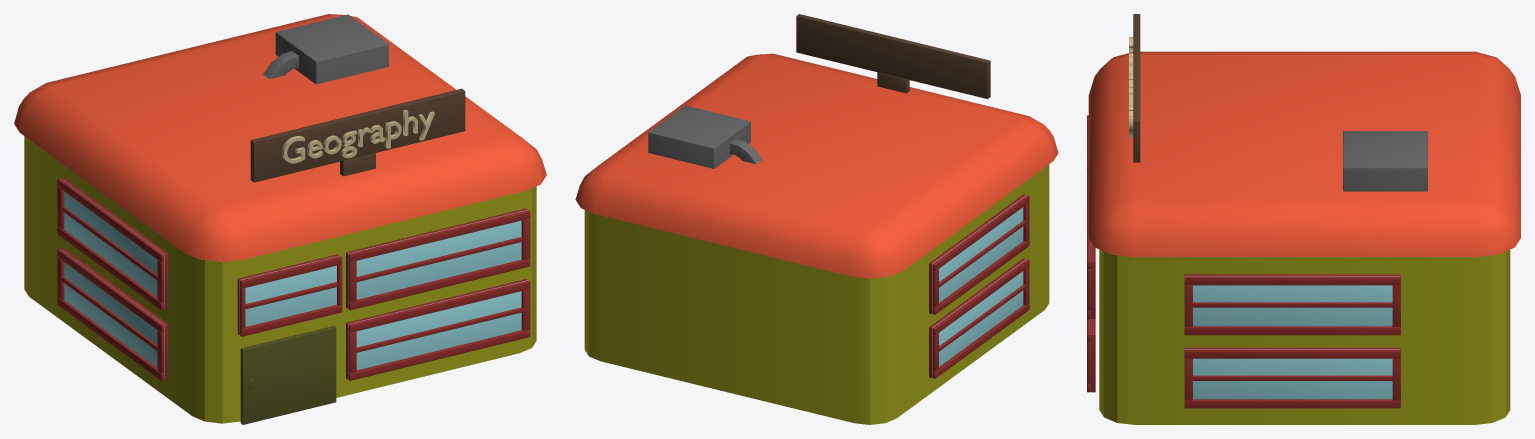
File: Predio_geography_nivel_01.fbx
3 views of the same model, side by side, from view 1: azimuth 30°, elevation 25°; view 2: azimuth 150°, elevation 25°; view 3: azimuth 270°, elevation 25° (orthographic). The views are drawn at different scales.
Visible parts, largest first — view 1: Predio_geography_nivel_01, Janelas_predio_geo_01, Texto_Geo_nivel_01; view 2: Predio_geography_nivel_01, Janelas_predio_geo_01; view 3: Predio_geography_nivel_01, Janelas_predio_geo_01, Texto_Geo_nivel_01.
Part boxes in pixels (bbox=[...]): Predio_geography_nivel_01: bbox=[14, 14, 546, 423]; Janelas_predio_geo_01: bbox=[57, 14, 530, 424]; Texto_Geo_nivel_01: bbox=[282, 109, 434, 163]; Predio_geography_nivel_01: bbox=[575, 53, 1058, 424]; Janelas_predio_geo_01: bbox=[648, 14, 1029, 378]; Predio_geography_nivel_01: bbox=[1088, 51, 1520, 424]; Janelas_predio_geo_01: bbox=[1087, 14, 1427, 408]; Texto_Geo_nivel_01: bbox=[1129, 37, 1133, 137].
Size of the model in its own units: 1041 by 725 by 1055.
